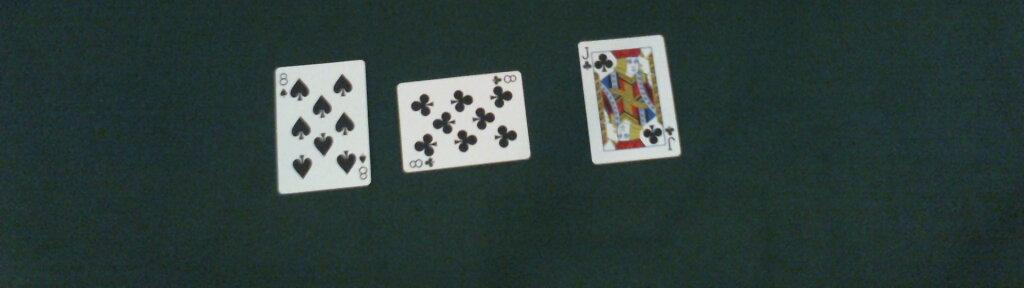eight: (397, 69, 532, 171), (272, 60, 370, 195)
jack: (576, 35, 682, 166)
